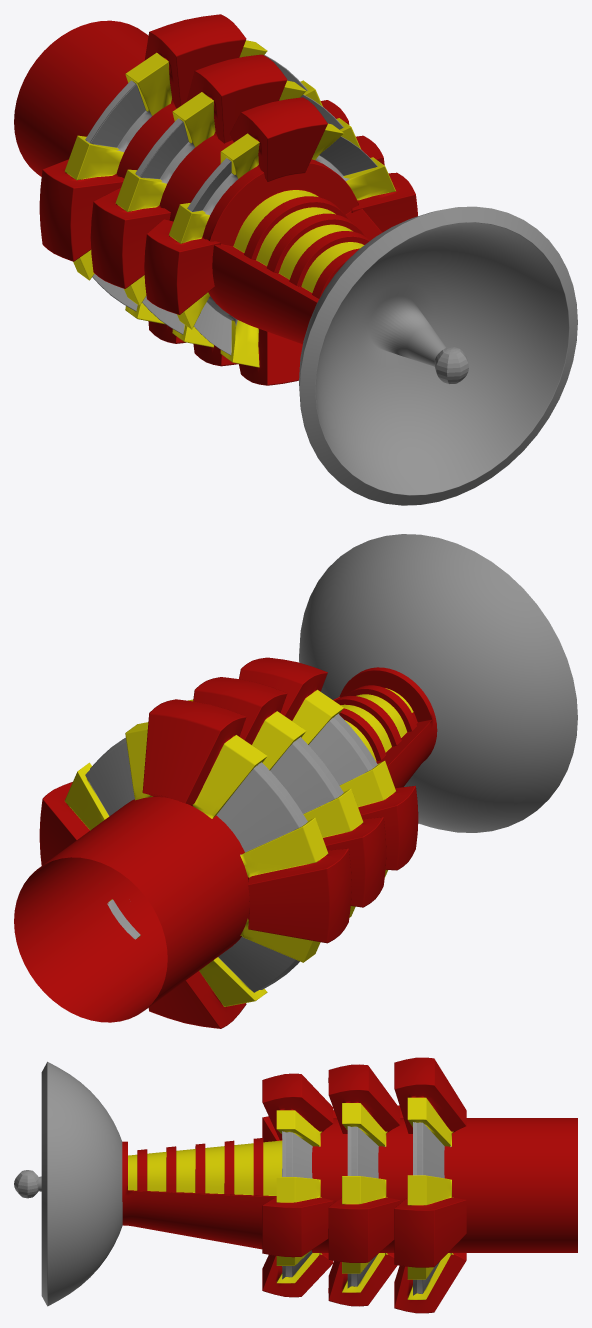
Rendered from Torreta_Rayo.fbx.
3 renders of one model, top to bottom at view 1: azimuth 30°, elevation 25°; view 2: azimuth 150°, elevation 25°; view 3: azimuth 270°, elevation 25°, orthographic. The views are drawn at different scales.
Visible parts, largest first — view 1: TorretaDisparador; view 2: TorretaDisparador; view 3: TorretaDisparador.
Boxes of the visible parts, <box> form: TorretaDisparador: <box>14,14,577,505</box>; TorretaDisparador: <box>14,534,577,1028</box>; TorretaDisparador: <box>14,1057,577,1313</box>.
Bounding box in the file's own units: 54.08 × 54.08 × 118.
